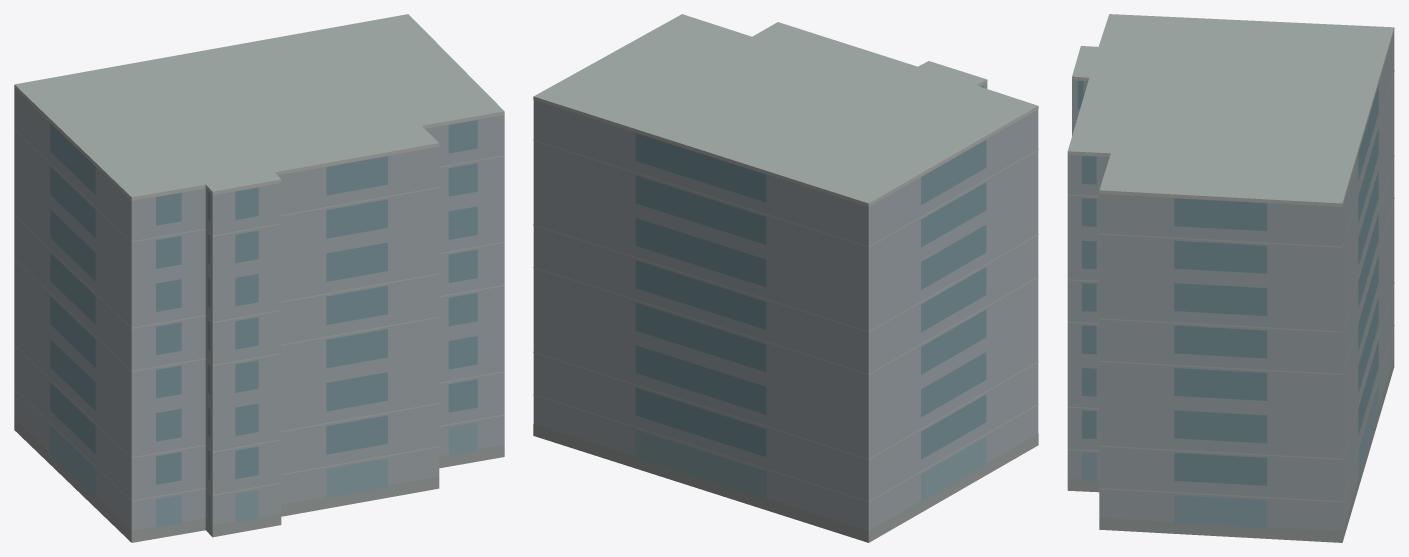
The model's file is survey-upis-32829477.glb.
3 views of the same model, side by side, from view 1: azimuth 30°, elevation 25°; view 2: azimuth 150°, elevation 25°; view 3: azimuth 270°, elevation 25° (orthographic).
Visible parts, largest first — view 1: survey-upis-32829477.tmp; view 2: survey-upis-32829477.tmp; view 3: survey-upis-32829477.tmp.
Part boxes in pixels (<box>): survey-upis-32829477.tmp: <box>14,14,504,542</box>; survey-upis-32829477.tmp: <box>533,14,1038,542</box>; survey-upis-32829477.tmp: <box>1067,14,1394,542</box>.
Bounding box in the file's own units: 28.4 × 23.7 × 20.7.
